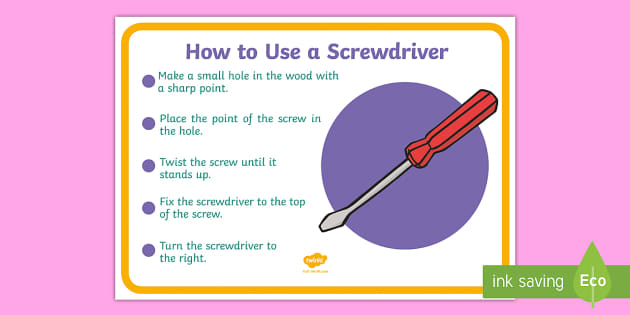screwdriver: (321, 89, 499, 237)
